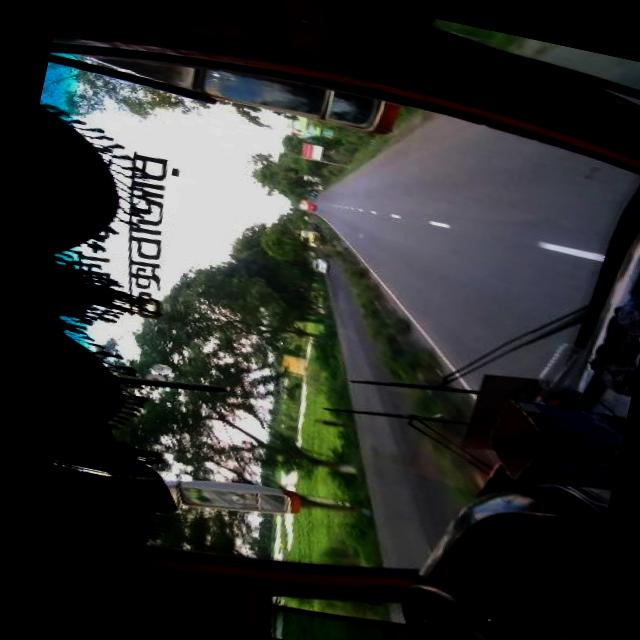bus: (0, 0, 640, 640), (299, 199, 314, 209)
car: (309, 254, 330, 272)
truck: (295, 223, 321, 244)
